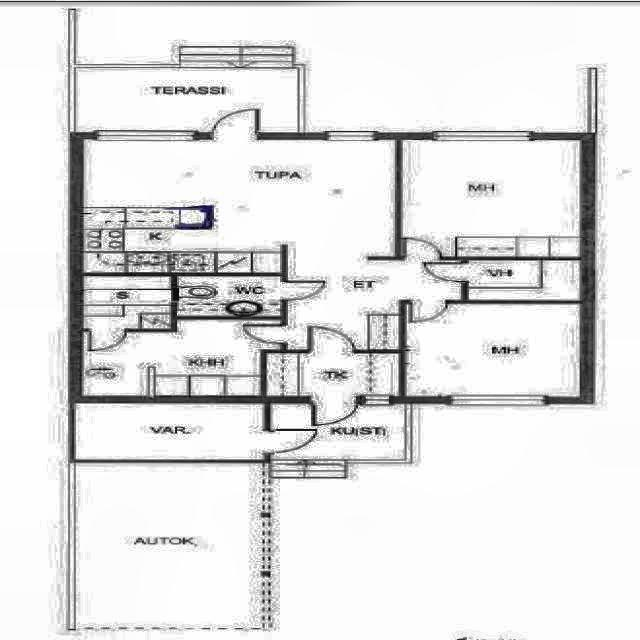room: (83, 138, 401, 349), (401, 139, 582, 258), (405, 303, 579, 397), (84, 320, 281, 395), (73, 403, 265, 460), (270, 402, 406, 461), (266, 353, 399, 396), (84, 276, 171, 329), (469, 260, 580, 301), (177, 276, 282, 317)
